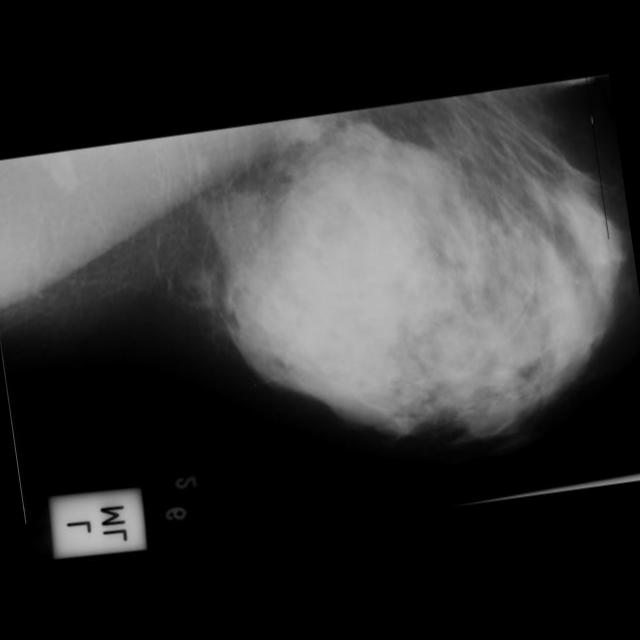ARCH: (386, 347, 456, 418)
